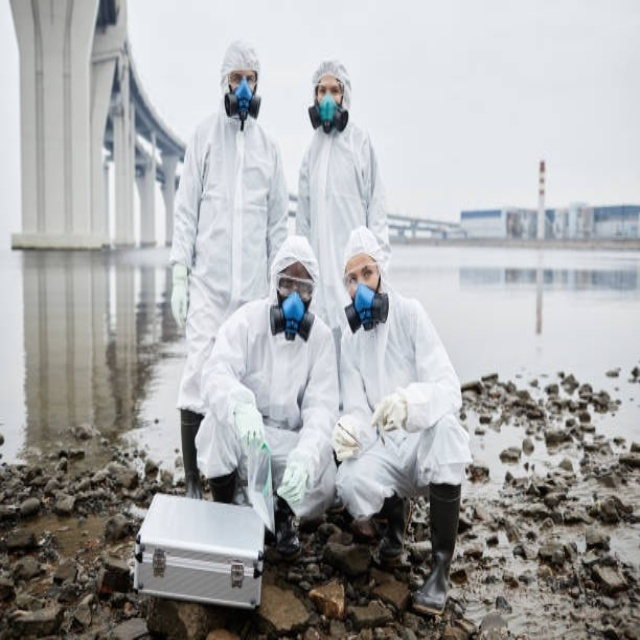Gafas: (277, 275, 313, 298), (343, 265, 378, 287), (313, 77, 345, 100), (230, 72, 256, 85)
Guantes: (277, 455, 311, 513), (232, 396, 266, 450), (371, 389, 408, 438), (332, 419, 361, 462), (170, 264, 189, 329)
Mascara: (345, 278, 389, 334), (270, 291, 315, 342), (225, 79, 261, 125), (318, 94, 338, 125)
